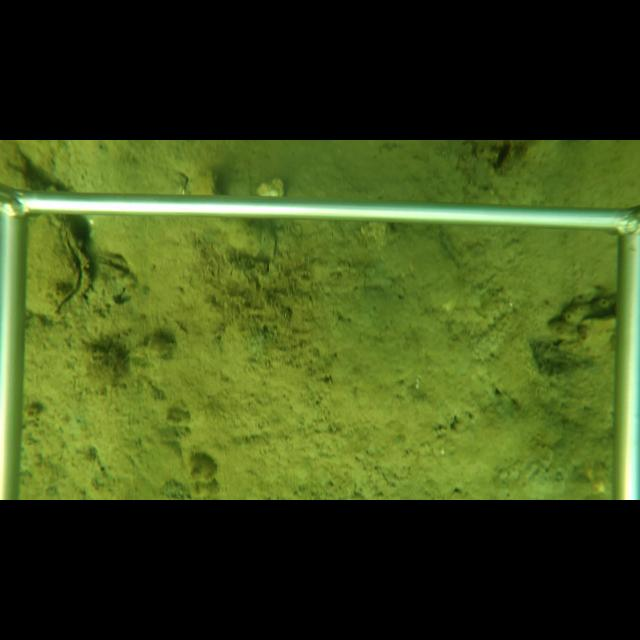Oyster-Open: (26, 216, 97, 320), (490, 141, 515, 171)
